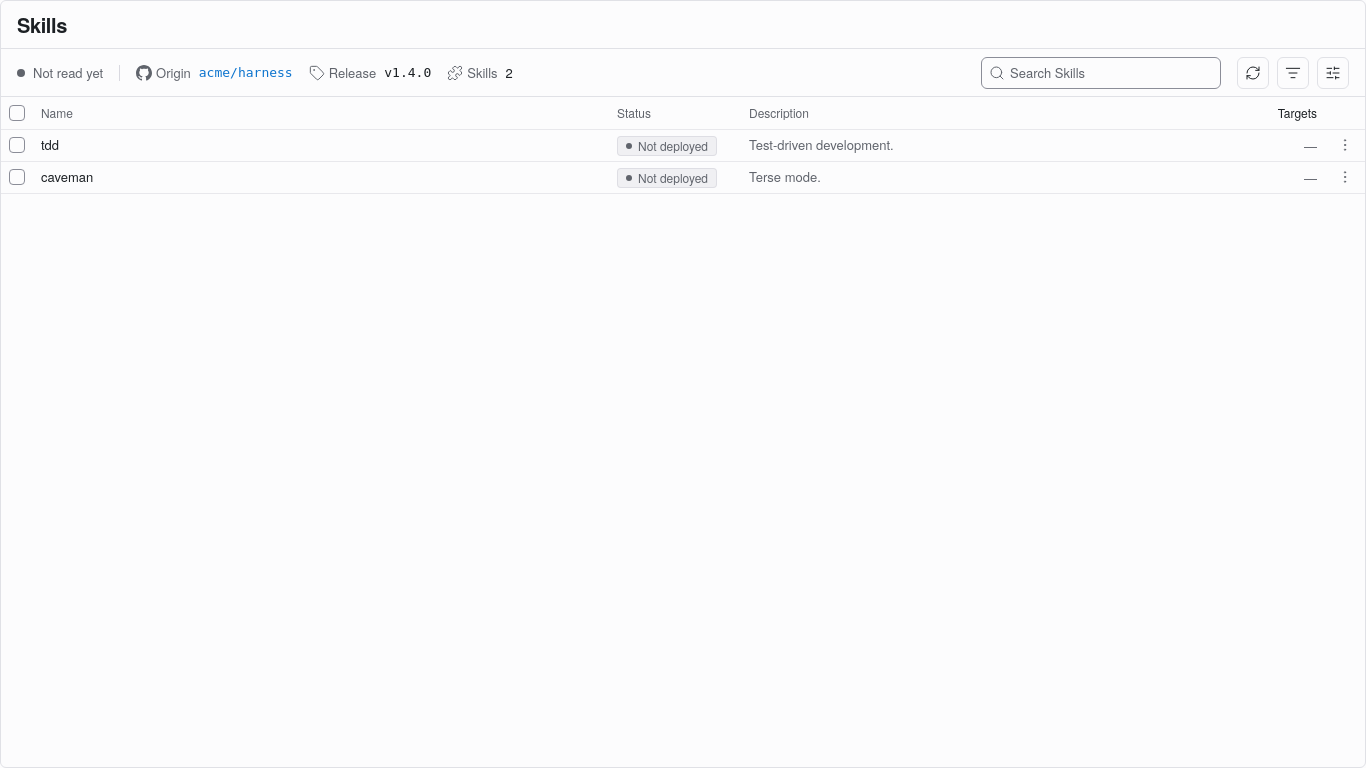
Scenario: SkillsView — band 2 › tells the user when the search matches no skills
This screenshot has width=1366, height=768.
Type "zzz" into the search field labelled "Search Skills" at [1101, 72], box x1=981 y1=56 x2=1221 y2=88
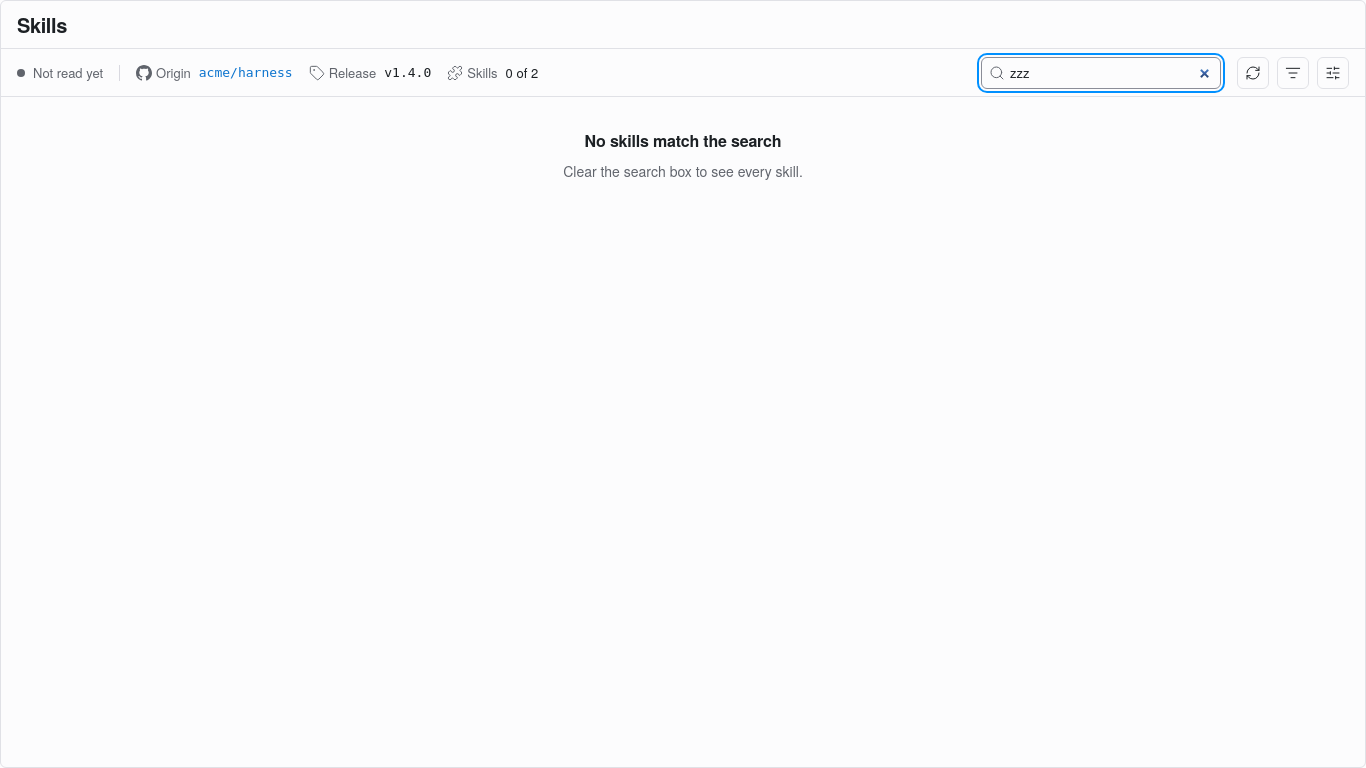
Result: the heading "No skills match the search" is shown at x1=585 y1=129 x2=781 y2=153
Result: the text "Clear the search box to see every skill." is shown at x1=563 y1=161 x2=803 y2=181
Result: the text "0 of 2" is shown at x1=506 y1=62 x2=538 y2=82
